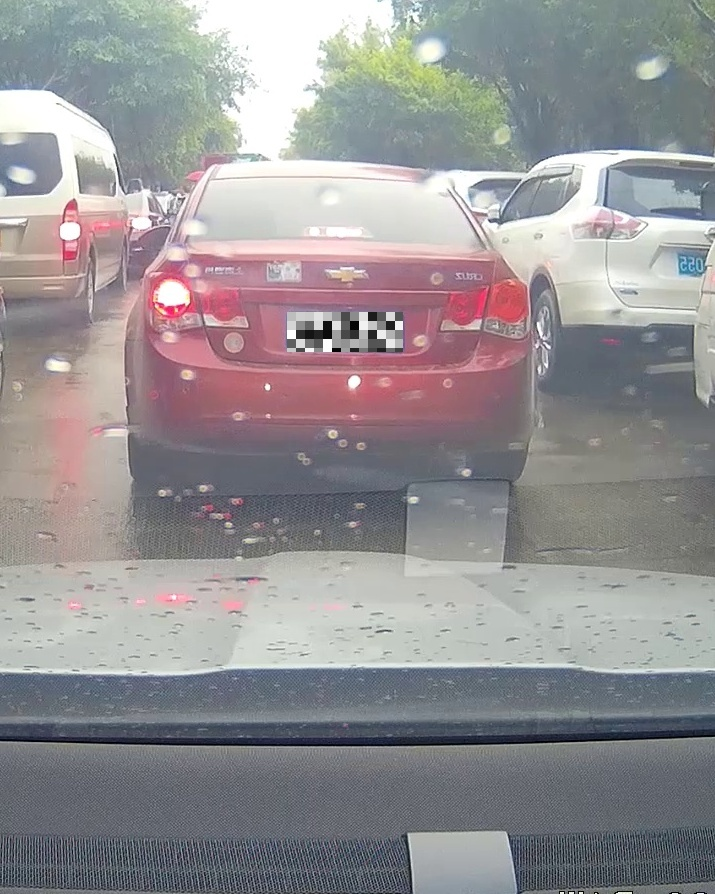L_light: (144, 271, 248, 334)
R_light: (440, 278, 532, 341)
T_light: (306, 226, 364, 238)
day-left: (124, 160, 536, 483)
plate_1: (287, 312, 403, 352)
